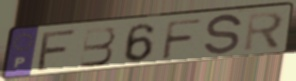6: (122, 21, 159, 65)
B: (78, 25, 118, 69)
F: (33, 28, 80, 74), (159, 18, 204, 62)
R: (241, 10, 286, 54)
S: (201, 12, 245, 59)
